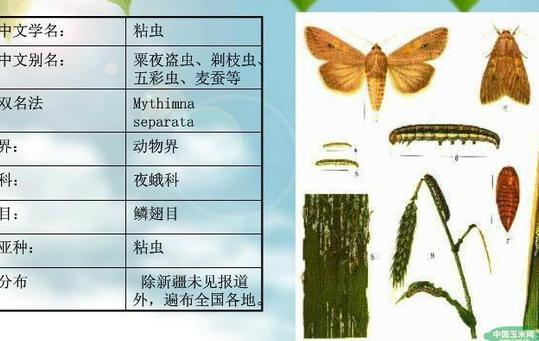larva: (380, 106, 528, 156), (310, 154, 367, 174), (319, 137, 364, 152)
moth: (299, 22, 464, 122), (477, 21, 537, 110)
pupa: (486, 160, 532, 240)
